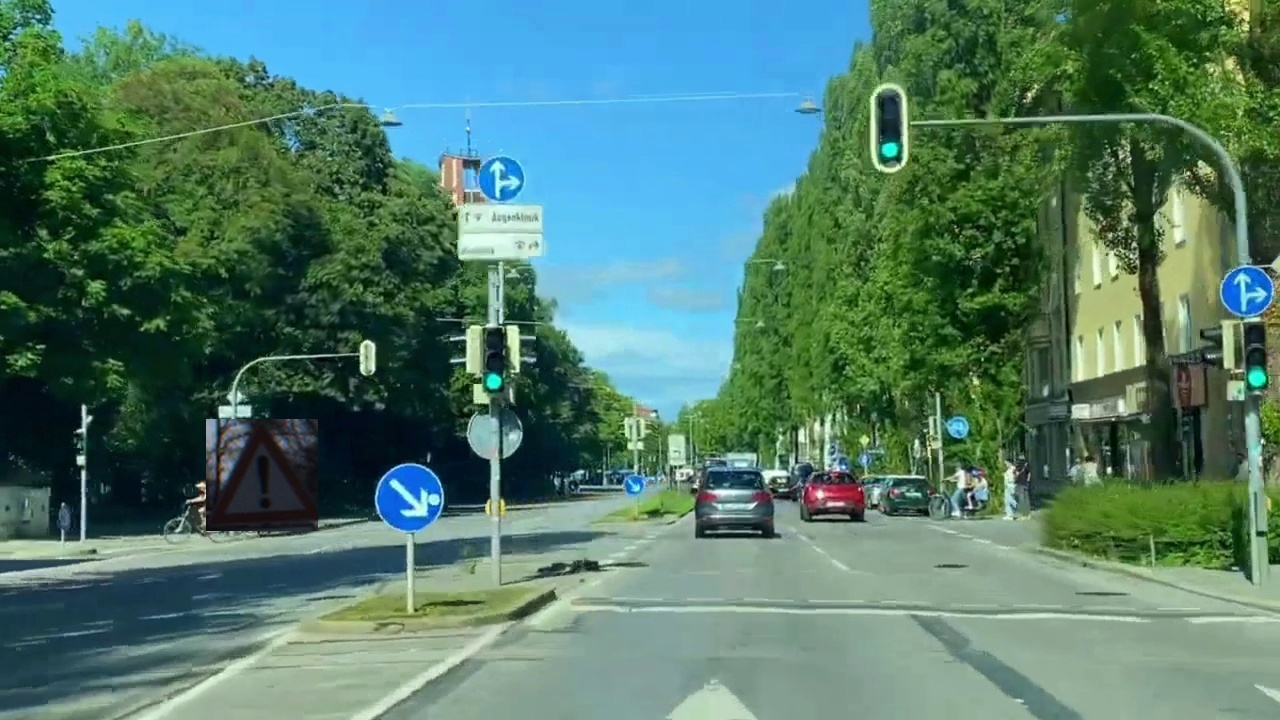Caution: (206, 419, 318, 531)
